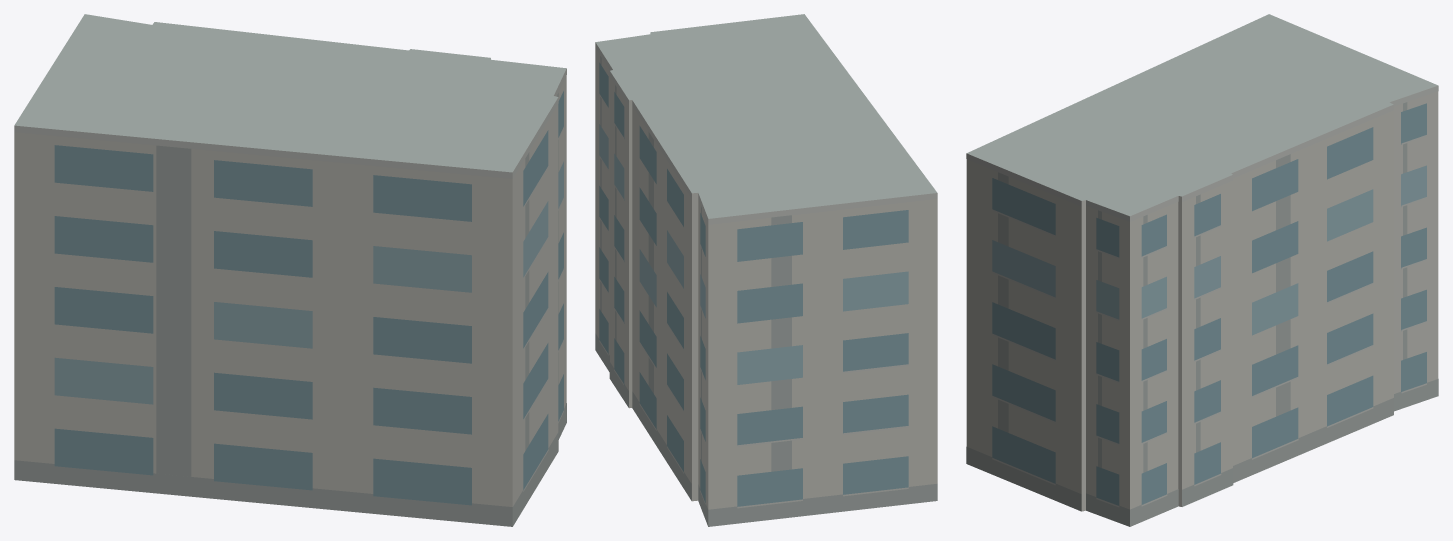
Rendered from survey-upis-33009988.glb.
3 renders of one model, left to right at view 1: azimuth 30°, elevation 25°; view 2: azimuth 150°, elevation 25°; view 3: azimuth 270°, elevation 25°, orthographic. The views are drawn at different scales.
Parts seen in each view (by area): view 1: survey-upis-33009988.tmp; view 2: survey-upis-33009988.tmp; view 3: survey-upis-33009988.tmp.
Boxes of the visible parts, x1,y1,x2,y2 form: survey-upis-33009988.tmp: (14,14,566,526); survey-upis-33009988.tmp: (595,14,937,526); survey-upis-33009988.tmp: (966,14,1438,526).
Bounding box in the file's own units: 18.31 × 13.1 × 18.05.
